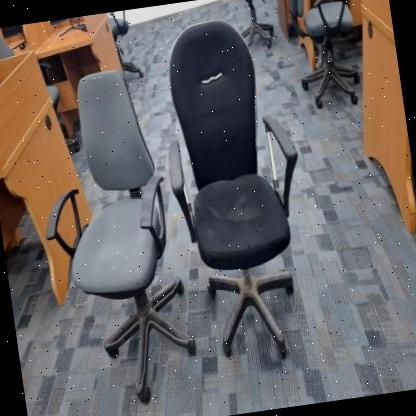chair: (135, 1, 332, 374), (26, 58, 198, 412)
